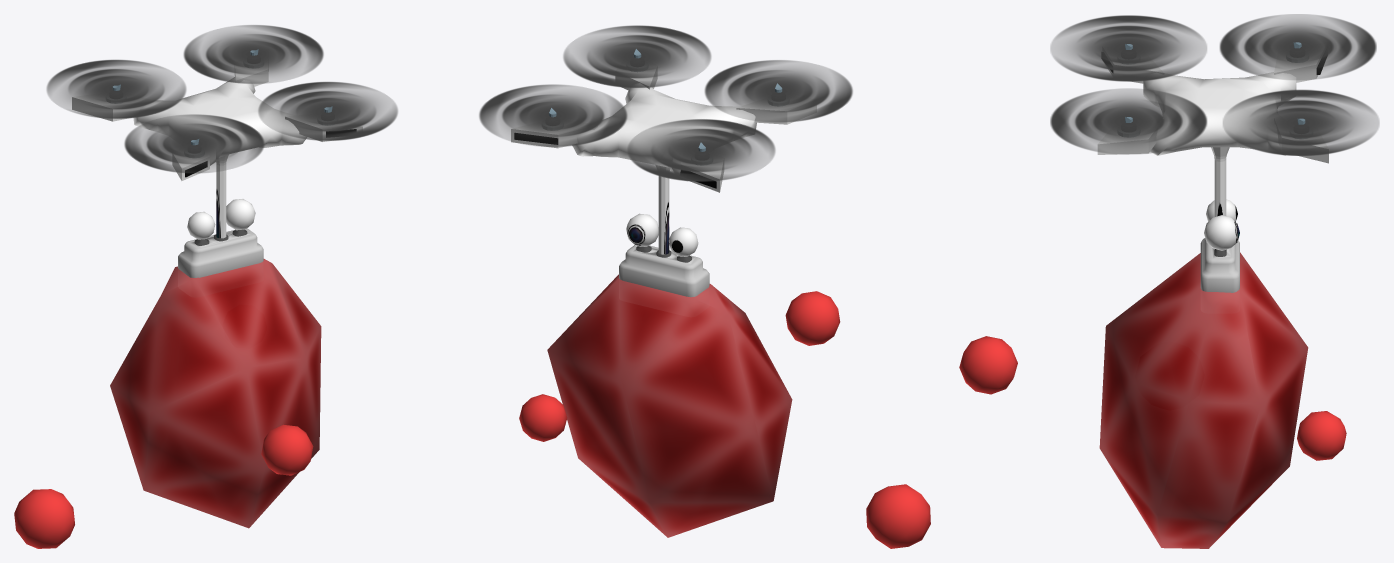
File: biggerboy.glb
3 renders of one model, left to right at view 1: azimuth 30°, elevation 25°; view 2: azimuth 150°, elevation 25°; view 3: azimuth 270°, elevation 25°, orthographic. The views are drawn at different scales.
Parts seen in each view (by area): view 1: redguyhead, Plane.003, Plane.002, Plane.004, Plane.005, Icosphere.002, Icosphere.001; view 2: redguyhead, Plane.005, Plane.002, Plane.003, Plane.004, Icosphere.002, Icosphere.001, Icosphere; view 3: redguyhead, Plane.002, Plane.004, Plane.003, Plane.005, Icosphere.001, Icosphere.
Boxes of the visible parts, x1,y1,x2,y2 form: redguyhead: (72, 49, 362, 528); Plane.003: (46, 59, 186, 118); Plane.002: (124, 114, 264, 173); Plane.004: (183, 25, 323, 83); Plane.005: (258, 82, 397, 140); Icosphere.002: (14, 489, 74, 548); Icosphere.001: (261, 424, 313, 475); redguyhead: (511, 49, 816, 537); Plane.005: (563, 25, 711, 87); Plane.002: (704, 60, 852, 122); Plane.003: (627, 119, 775, 181); Plane.004: (479, 84, 627, 146); Icosphere.002: (866, 484, 930, 548); Icosphere.001: (785, 291, 840, 345); Icosphere: (519, 394, 567, 441); redguyhead: (1097, 42, 1328, 548); Plane.002: (1050, 15, 1206, 81); Plane.004: (1223, 89, 1379, 155); Plane.003: (1219, 14, 1376, 79); Plane.005: (1050, 88, 1207, 154); Icosphere.001: (959, 336, 1017, 394); Icosphere: (1297, 411, 1346, 460).
Size of the model in its own units: 1.17 by 1.32 by 1.07.
15 materials, 6 textured.
